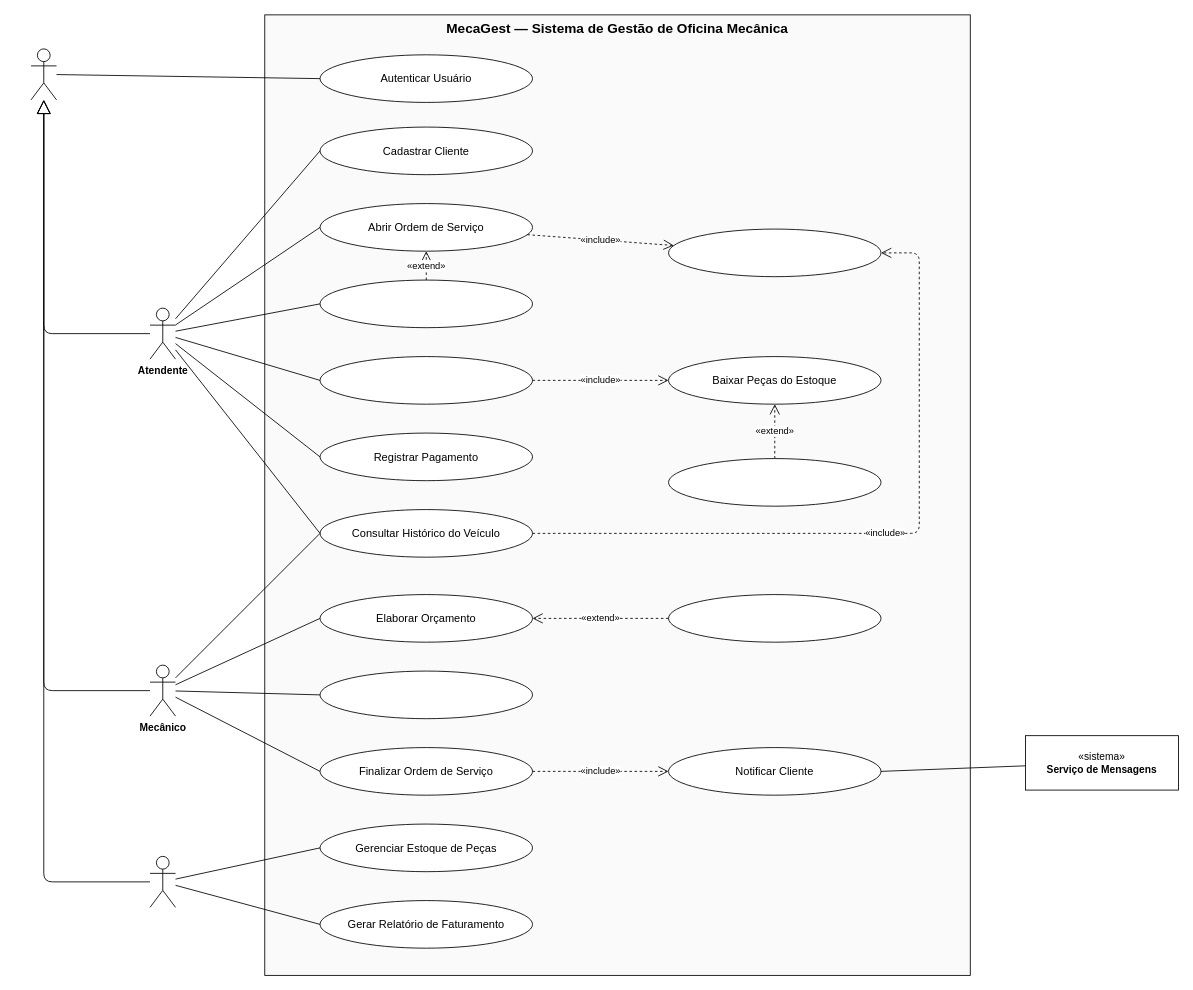
Some shapes in this 1193 by 990 pixel diagram are drawn without their labels. Here are the shapes that lost their labels. From the top down, the centre of each, then its label:
At point 43,74: "Funcionário".
At point 774,252: "Consultar Veículo".
At point 426,303: "Cadastrar Veículo".
At point 426,380: "Registrar Aprovação do Orçamento".
At point 774,482: "Emitir Alerta de Estoque Mínimo".
At point 774,618: "Aplicar Garantia de Serviço".
At point 426,694: "Registrar Execução de Serviço".
At point 162,881: "Gerente".
